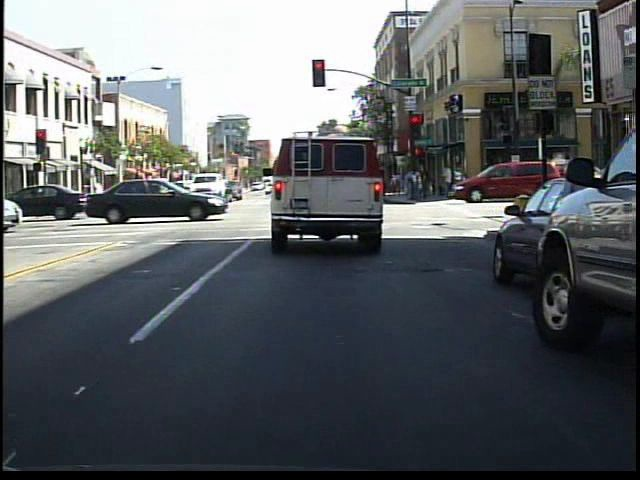person: (482, 161, 503, 199)
